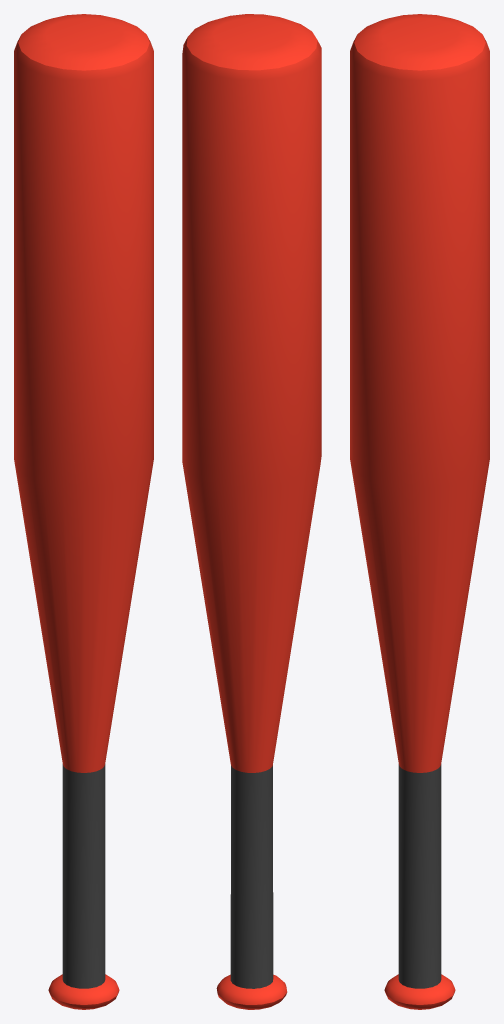
Rendered from Bat Red.fbx.
3 renders of one model, left to right at view 1: azimuth 90°, elevation 25°; view 2: azimuth 150°, elevation 25°; view 3: azimuth 270°, elevation 25°, orthographic.
Visible parts, largest first — view 1: Bat Red; view 2: Bat Red; view 3: Bat Red.
Boxes of the visible parts, x1=… form: Bat Red: x1=14, y1=14, x2=153, y2=1009; Bat Red: x1=182, y1=14, x2=321, y2=1009; Bat Red: x1=350, y1=14, x2=489, y2=1009.
Size of the model in its own units: 23.38 by 179 by 23.38.
